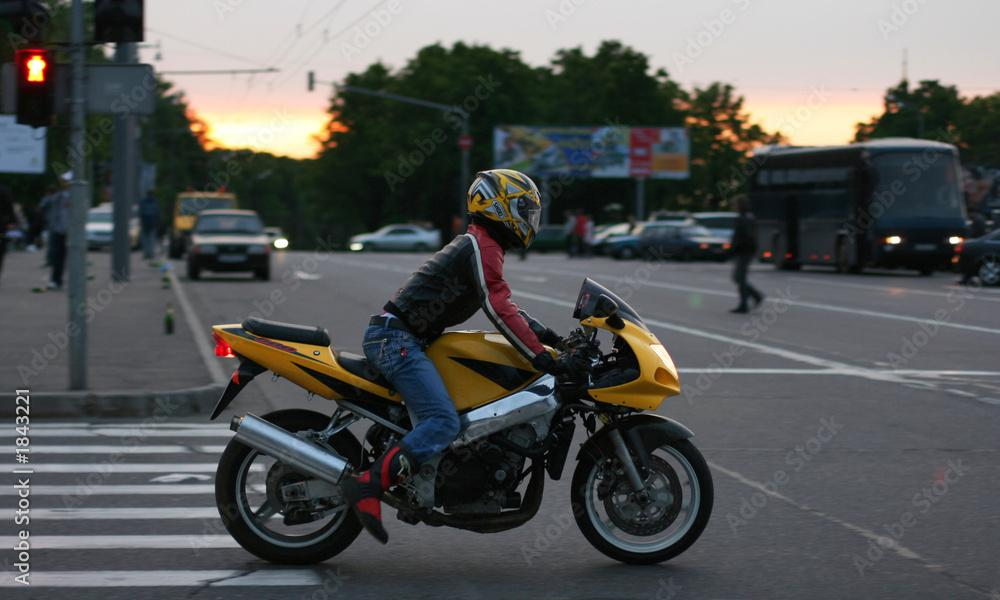helmet: (466, 168, 543, 254)
